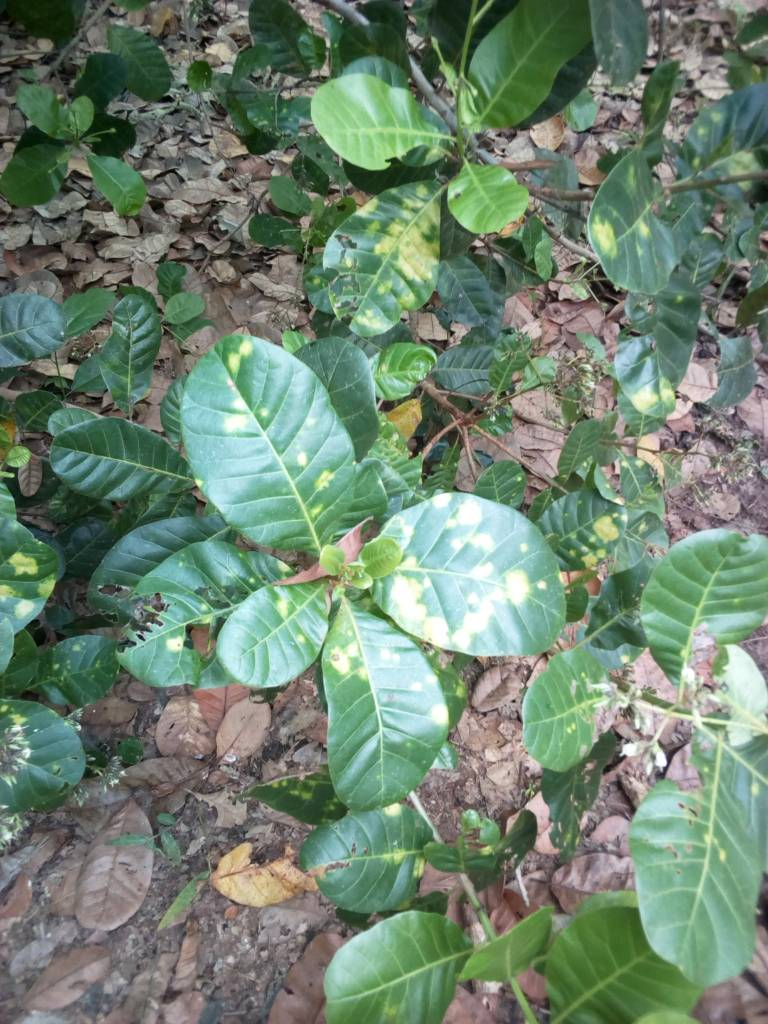Carence minérale: (169, 336, 380, 566), (374, 489, 575, 666), (315, 591, 458, 814), (582, 130, 725, 300), (109, 558, 287, 686), (314, 177, 443, 344), (541, 452, 663, 577), (215, 575, 324, 700), (609, 298, 712, 423)
